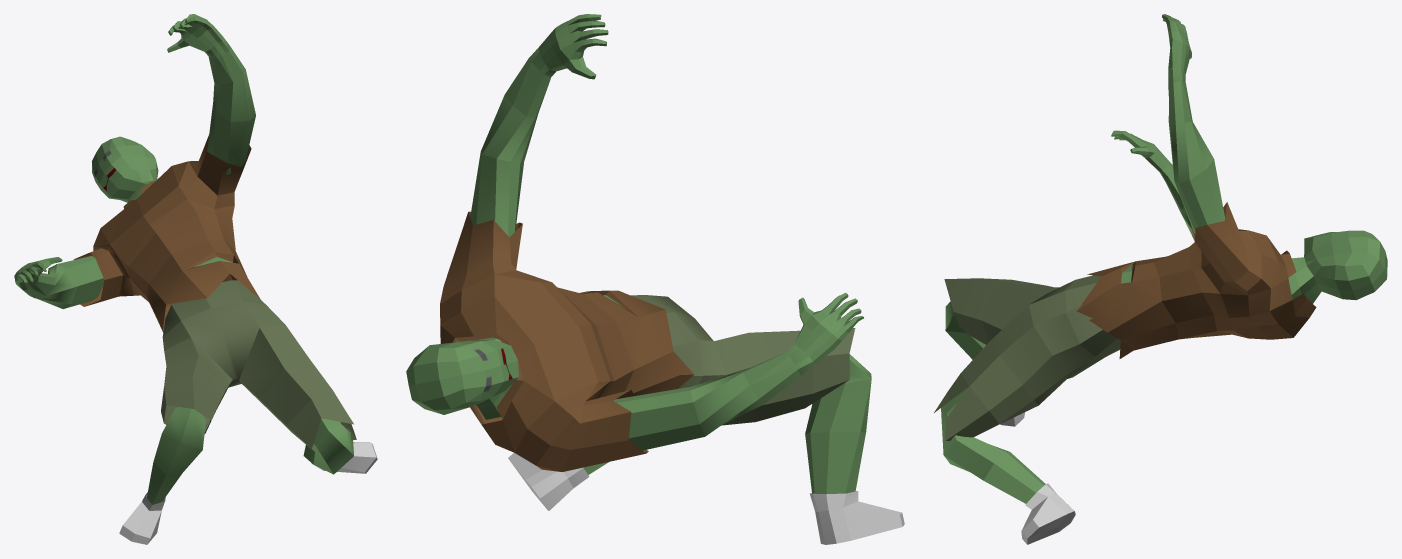
The model's file is ZombieDead(47).obj.
The picture shows the model from 3 angles, left to right: view 1: azimuth 30°, elevation 25°; view 2: azimuth 150°, elevation 25°; view 3: azimuth 270°, elevation 25°; orthographic projection. The views are drawn at different scales.
Visible parts, largest first — view 1: Object001; view 2: Object001; view 3: Object001.
Part boxes in pixels (left/top/right/bottom): Object001: left=14, top=14, right=377, bottom=544; Object001: left=406, top=14, right=904, bottom=544; Object001: left=934, top=14, right=1387, bottom=544.
Bounding box in the file's own units: 36.52 × 49.16 × 42.85.
